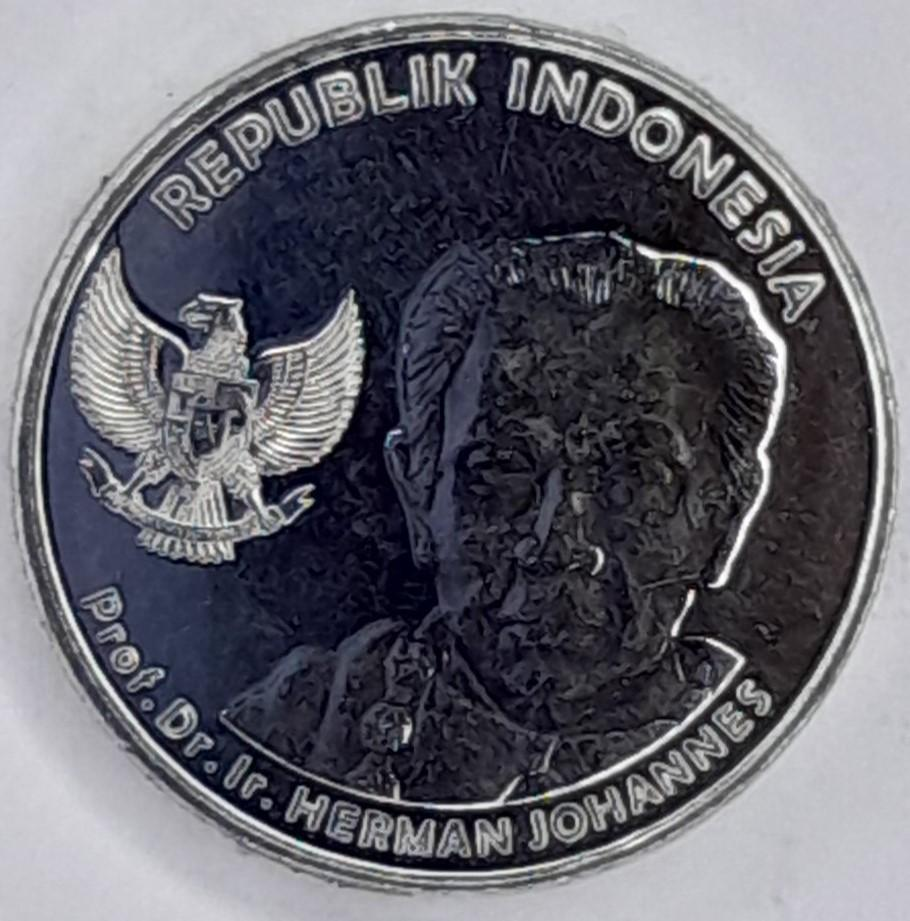coin_100_e2016: (6, 7, 903, 895)
